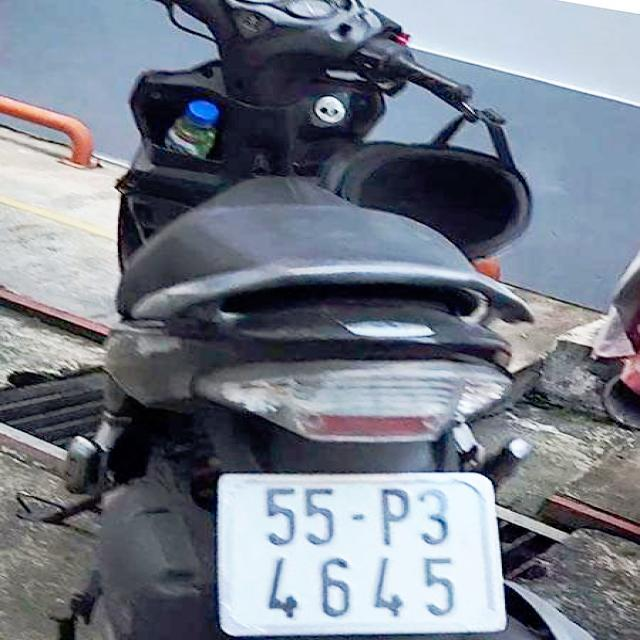license_plate: (225, 477, 503, 631)
